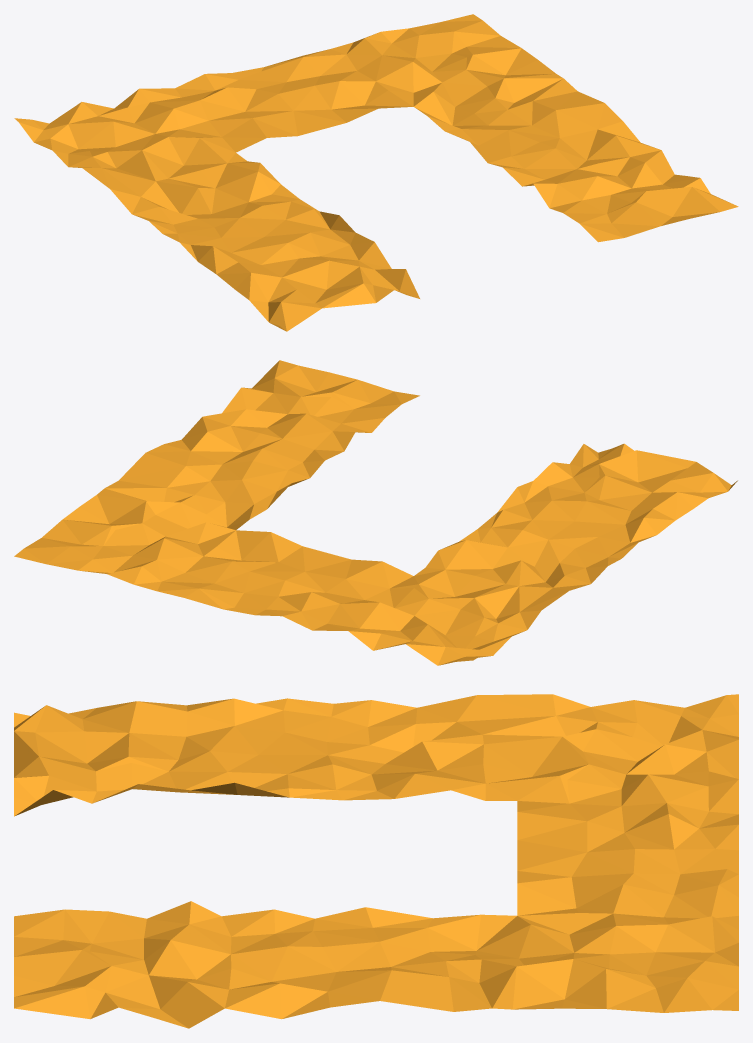
File: SM_Planter_Box_U_Dirt_3x3m_Farm.fbx
3 renders of one model, top to bottom at view 1: azimuth 30°, elevation 25°; view 2: azimuth 150°, elevation 25°; view 3: azimuth 270°, elevation 25°, orthographic. The views are drawn at different scales.
Parts seen in each view (by area): view 1: planter-box-u-dirt-3x3m-farm; view 2: planter-box-u-dirt-3x3m-farm; view 3: planter-box-u-dirt-3x3m-farm.
Part boxes in pixels (x1=…): planter-box-u-dirt-3x3m-farm: x1=14, y1=14, x2=738, y2=331; planter-box-u-dirt-3x3m-farm: x1=14, y1=360, x2=737, y2=665; planter-box-u-dirt-3x3m-farm: x1=14, y1=694, x2=738, y2=1028.
Bounding box in the file's own units: 2.88 × 0.1488 × 2.89.
